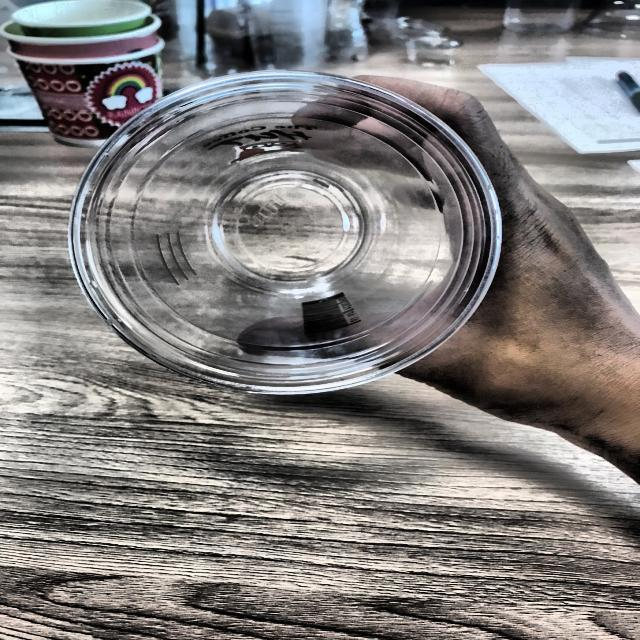plastic cup: (52, 61, 543, 416)
